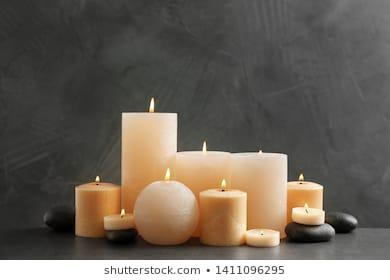fire: (147, 94, 158, 113), (162, 165, 171, 183), (218, 175, 228, 190), (296, 169, 307, 182), (200, 139, 209, 153)
